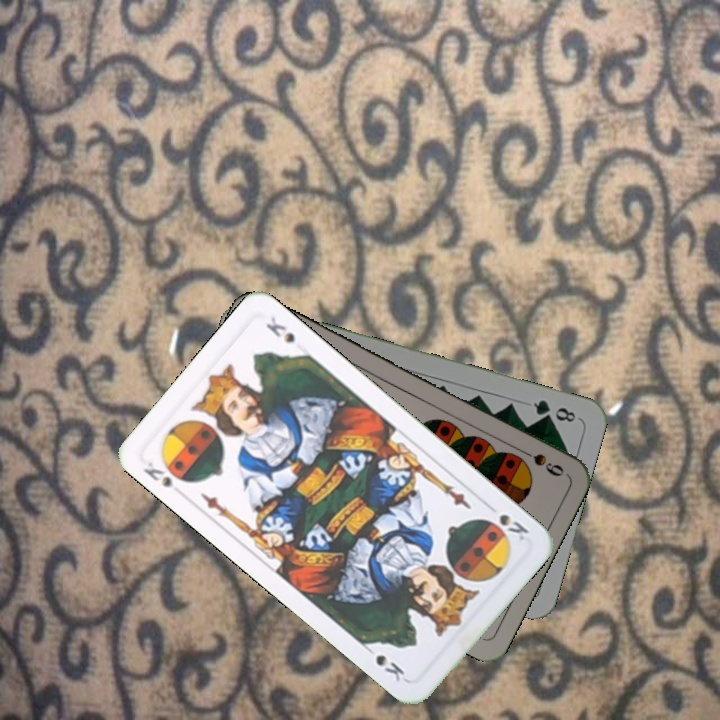G8: (529, 395, 579, 425)
S9: (512, 443, 567, 480)
SK: (482, 499, 532, 544), (139, 455, 177, 491)
